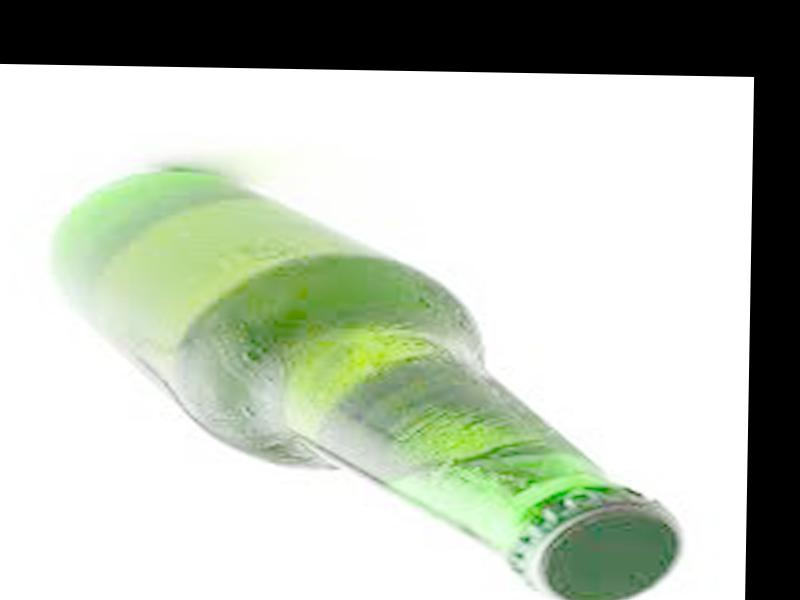Beer: (42, 164, 689, 600)
